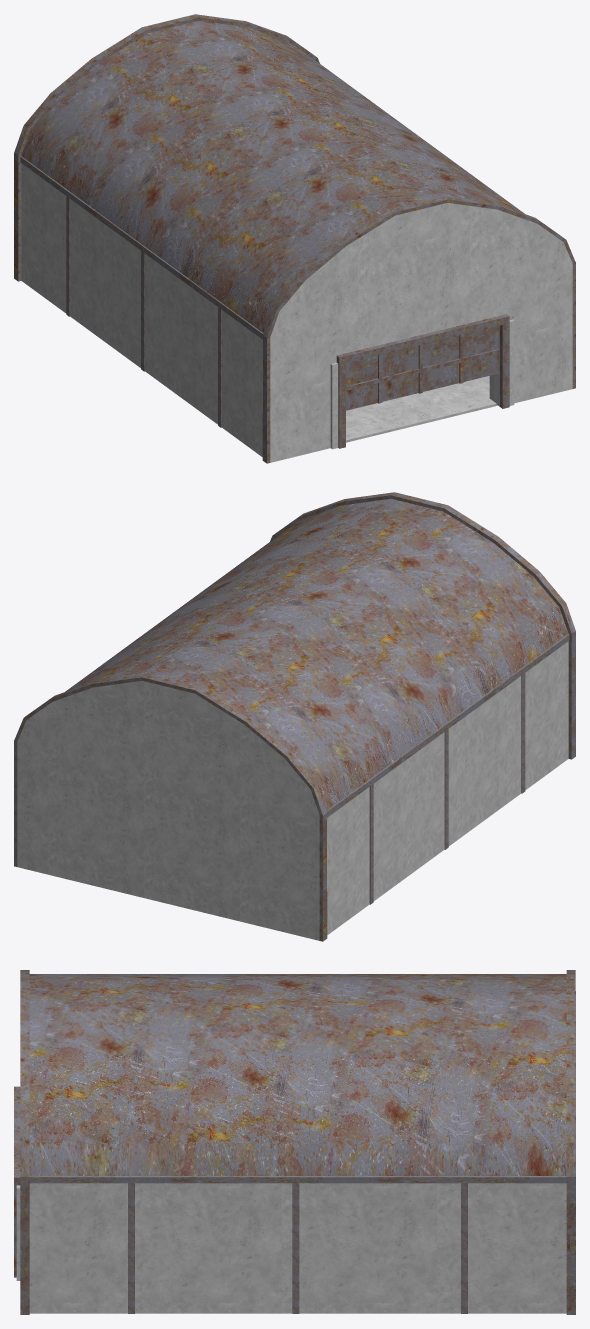
File: Hangar_02.FBX
3 renders of one model, top to bottom at view 1: azimuth 30°, elevation 25°; view 2: azimuth 150°, elevation 25°; view 3: azimuth 270°, elevation 25°, orthographic. The views are drawn at different scales.
Parts seen in each view (by area): view 1: Cylinder003, Box011, Box015, Box019, Box018; view 2: Cylinder003, Box019, Box017, Box016, Box018; view 3: Cylinder003, Box014, Box012, Box010, Box013, Box015.
Boxes of the visible parts, x1,y1,x2,y2 form: Cylinder003: (14, 14, 575, 463); Box011: (346, 326, 499, 410); Box015: (346, 376, 497, 442); Box019: (20, 156, 263, 339); Box018: (66, 196, 70, 316); Cylinder003: (14, 492, 575, 941); Box019: (326, 634, 569, 817); Box017: (444, 729, 448, 849); Box016: (521, 673, 525, 793); Box018: (369, 784, 373, 904); Cylinder003: (14, 970, 575, 1314); Box014: (29, 1176, 566, 1183); Box012: (292, 1183, 299, 1313); Box010: (461, 1183, 467, 1313); Box013: (128, 1183, 134, 1313); Box015: (30, 1313, 566, 1313).
Bounding box in the file's own units: 156 × 107 × 223.
5 materials, 5 textured.
